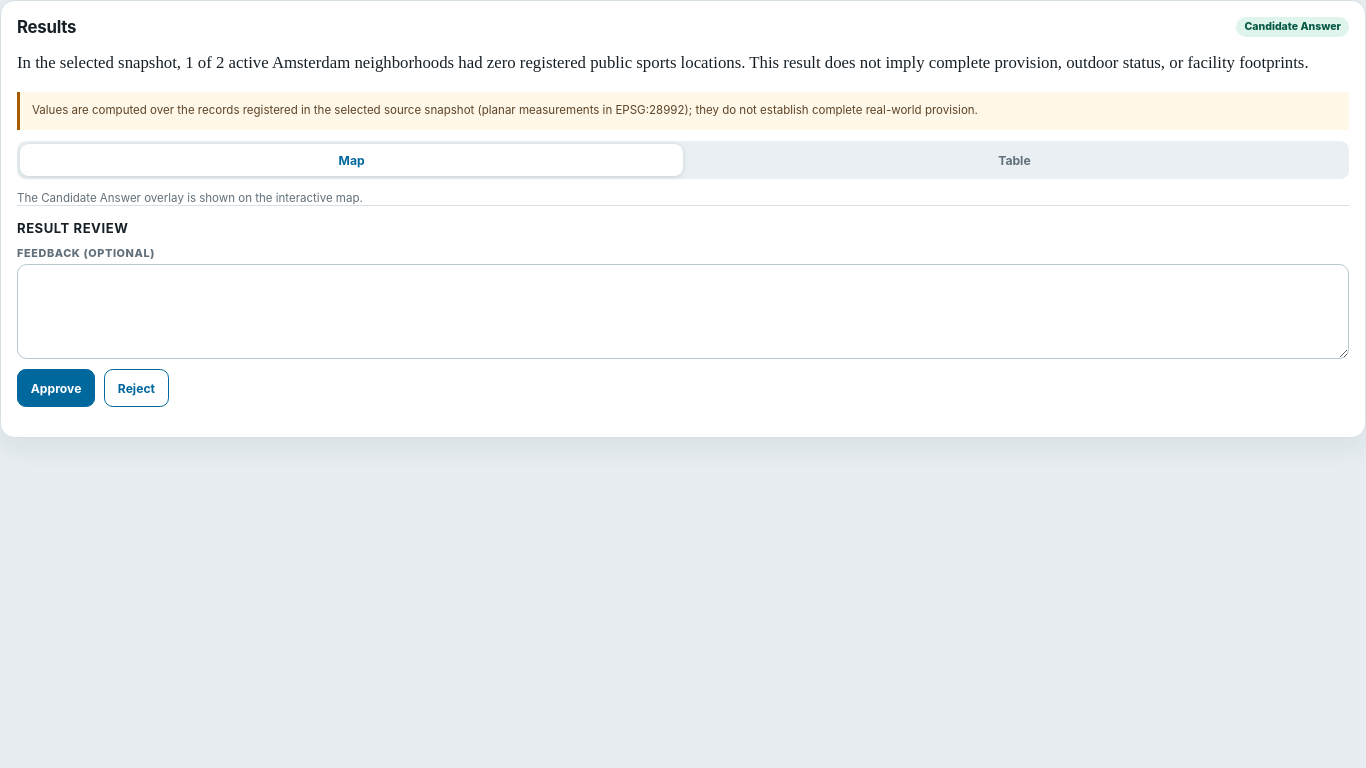
Scenario: Candidate Answer review › names each row from the Answer Map when the layer has names
Click the button "Table" at (1014, 160), box [683, 144, 1346, 176]
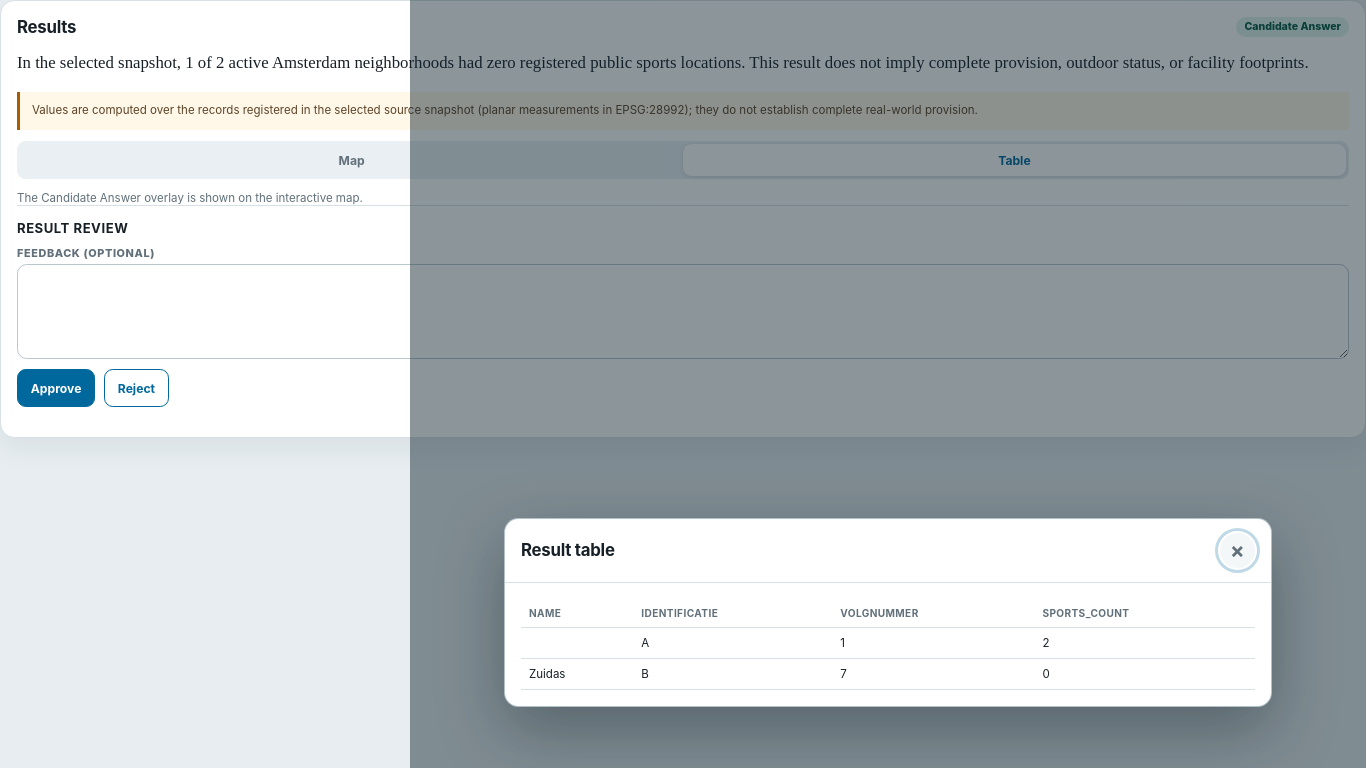
Check: the column heading "name" is shown, box [521, 599, 633, 627]
Check: the cell "Zuidas" is shown, box [521, 658, 633, 689]
